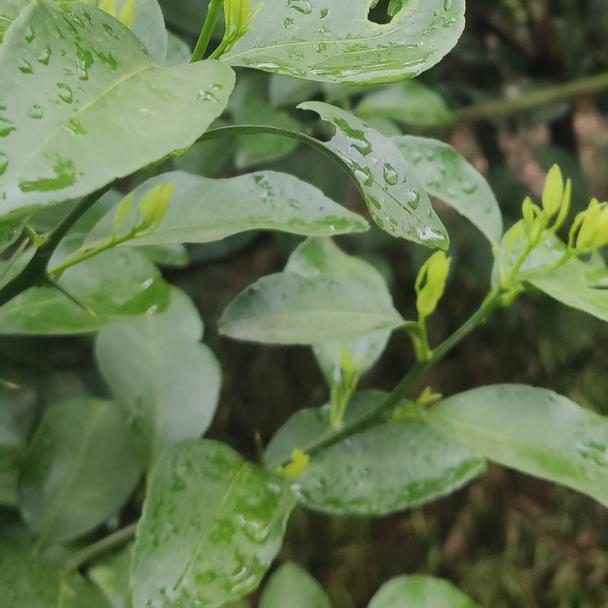shoot: (509, 162, 573, 277), (541, 201, 608, 278), (101, 188, 180, 253), (406, 252, 454, 338)
